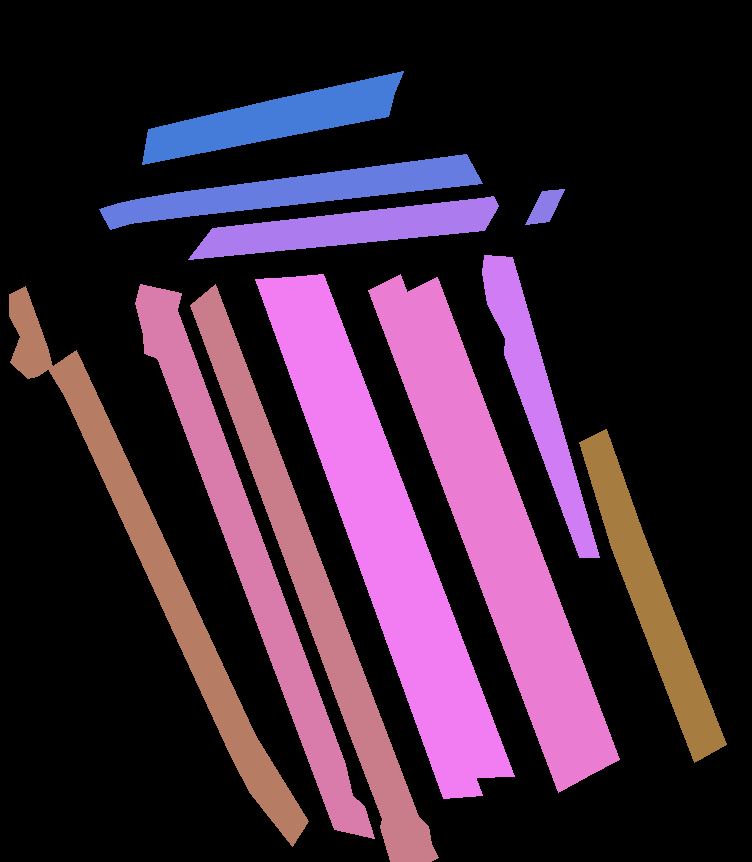parkingspot: (190, 284, 438, 861), (135, 284, 374, 838), (48, 350, 308, 846), (255, 277, 482, 798), (368, 274, 587, 792), (290, 274, 514, 777), (406, 277, 619, 776), (579, 429, 726, 762), (481, 254, 599, 557), (99, 154, 482, 229), (188, 196, 498, 259), (142, 99, 275, 164), (269, 71, 403, 120), (263, 93, 394, 140), (9, 286, 52, 378), (525, 189, 564, 224)
